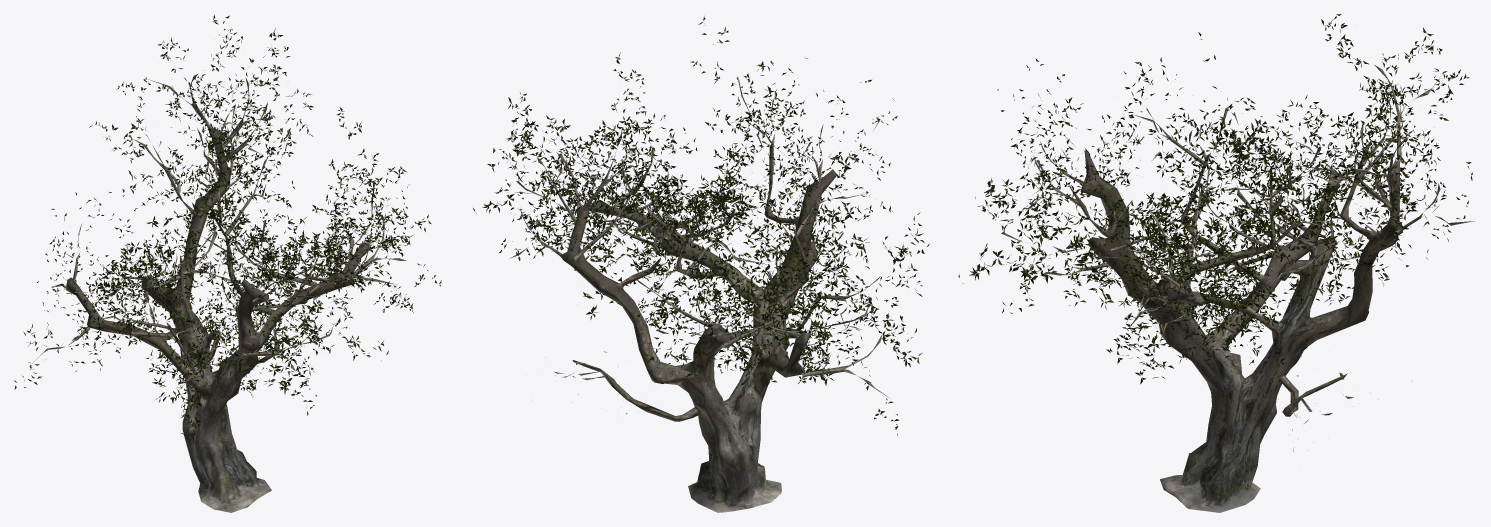
File: island_tree_mid.glb
The picture shows the model from 3 angles, left to right: view 1: azimuth 30°, elevation 25°; view 2: azimuth 150°, elevation 25°; view 3: azimuth 270°, elevation 25°; orthographic projection. The views are drawn at different scales.
Visible parts, largest first — view 1: island_tree_01_LOD1; view 2: island_tree_01_LOD1; view 3: island_tree_01_LOD1.
Part boxes in pixels (bbox=[...]): island_tree_01_LOD1: bbox=[14, 14, 441, 512]; island_tree_01_LOD1: bbox=[473, 16, 929, 512]; island_tree_01_LOD1: bbox=[958, 14, 1474, 512].
Size of the model in its own units: 4.69 by 4.98 by 4.59.
3 materials, 3 textured.
